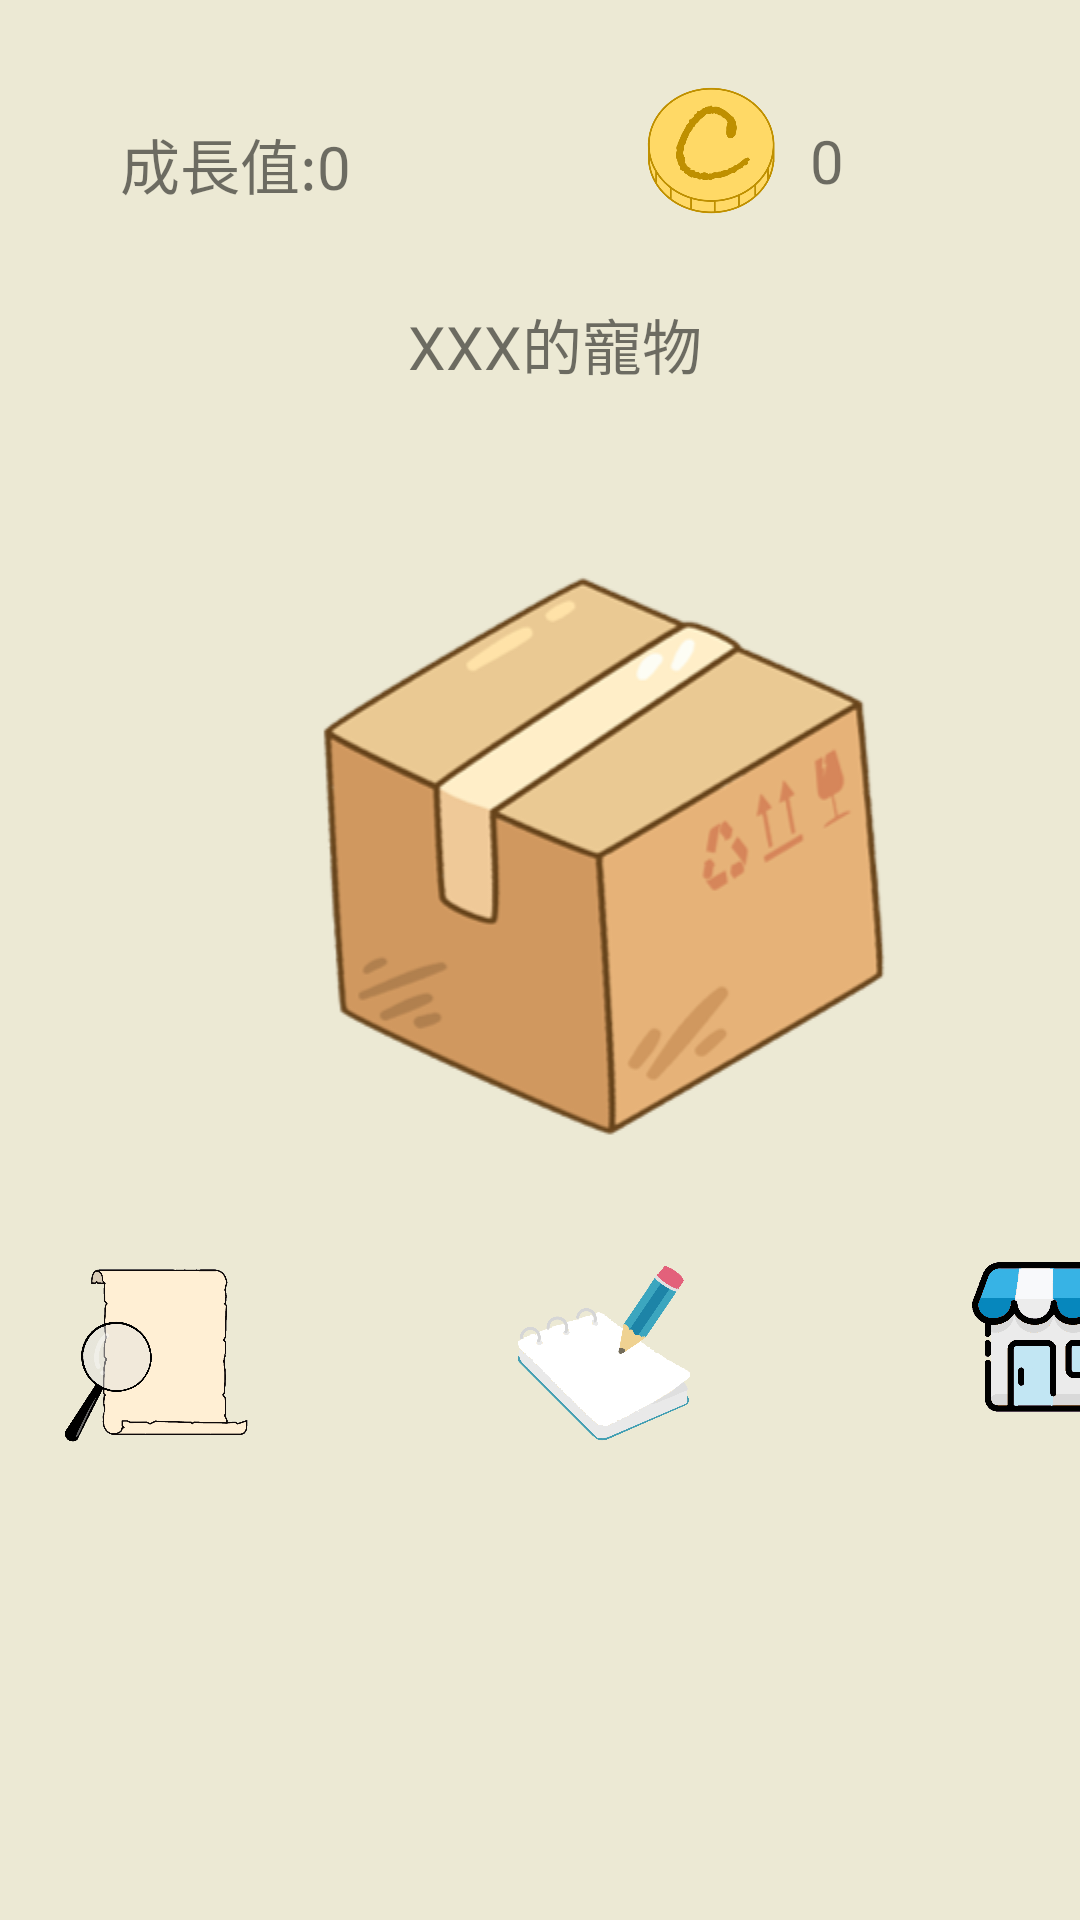

Locate icon controls on the screen. Image size 1080 x 1920, boxes as (x1, y1, x2, y2).
pet coin: (648, 88, 775, 214)
query: (65, 1269, 248, 1442)
records: (518, 1266, 690, 1440)
